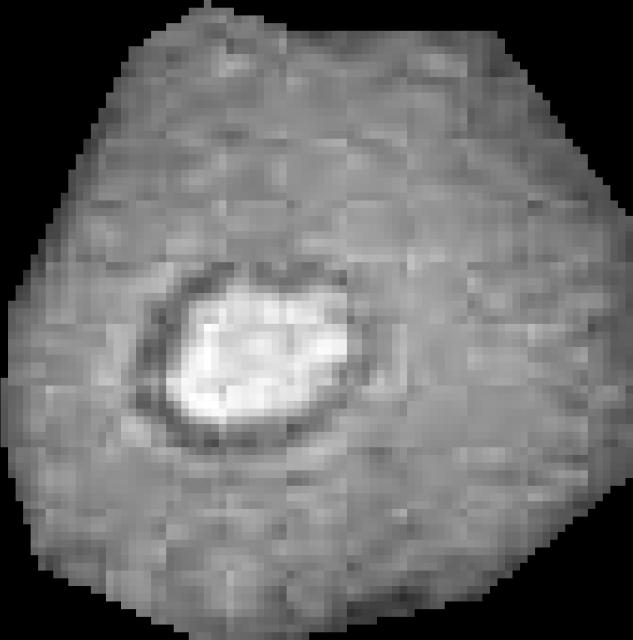tumor_good_chance: (1, 0, 633, 640)
